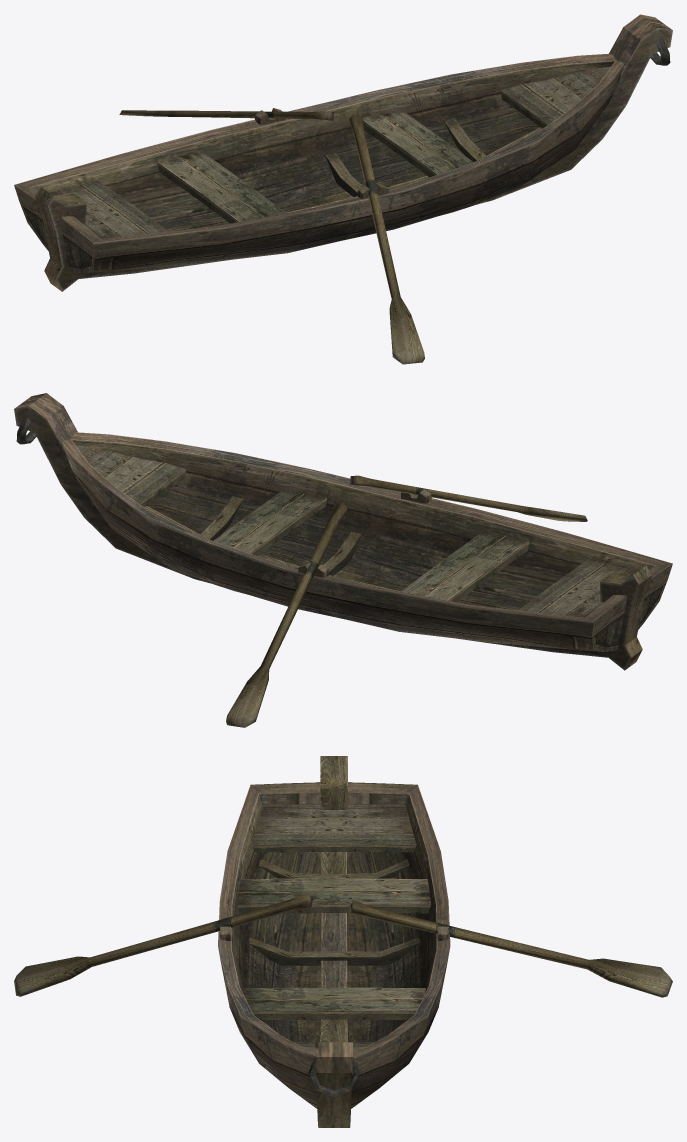
Rendered from things_woodboat_00.fbx.
The picture shows the model from 3 angles, top to bottom: view 1: azimuth 30°, elevation 25°; view 2: azimuth 150°, elevation 25°; view 3: azimuth 270°, elevation 25°; orthographic projection. The views are drawn at different scales.
Parts seen in each view (by area): view 1: woodboat_b; view 2: woodboat_b; view 3: woodboat_b.
Boxes of the visible parts, x1=… form: woodboat_b: x1=14, y1=14, x2=672, y2=364; woodboat_b: x1=14, y1=393, x2=672, y2=727; woodboat_b: x1=14, y1=756, x2=672, y2=1127.
Bounding box in the file's own units: 13.25 × 2.84 × 11.46.
